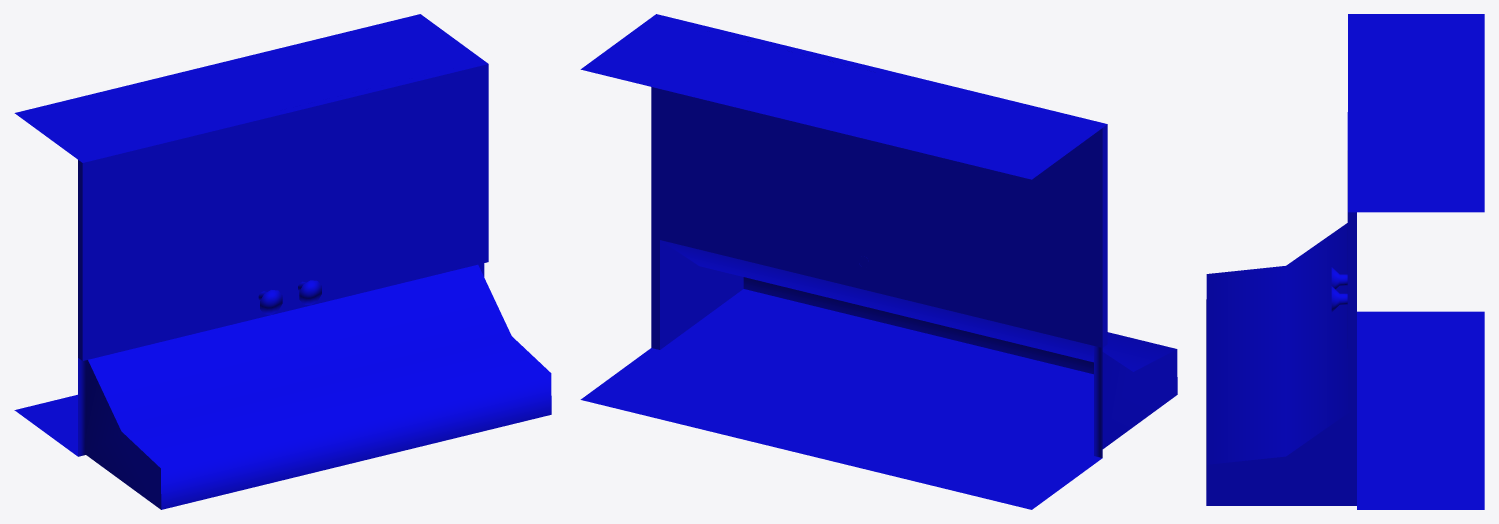
File: Object_Rangehood.fbx
The picture shows the model from 3 angles, left to right: view 1: azimuth 30°, elevation 25°; view 2: azimuth 150°, elevation 25°; view 3: azimuth 270°, elevation 25°; orthographic projection. The views are drawn at different scales.
Parts seen in each view (by area): view 1: Rangehood_LOW; view 2: Rangehood_LOW; view 3: Rangehood_LOW.
Part boxes in pixels (x1,y1,x2,y2): Rangehood_LOW: (14, 14, 551, 509); Rangehood_LOW: (580, 14, 1177, 509); Rangehood_LOW: (1206, 14, 1484, 509).
Bounding box in the file's own units: 1.03 × 0.72 × 0.6105.
